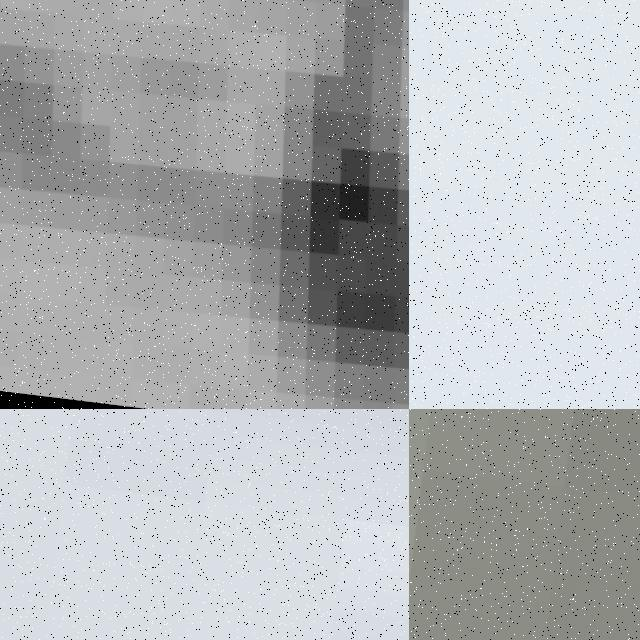0: (0, 0, 409, 409)
drone: (409, 0, 640, 409)
